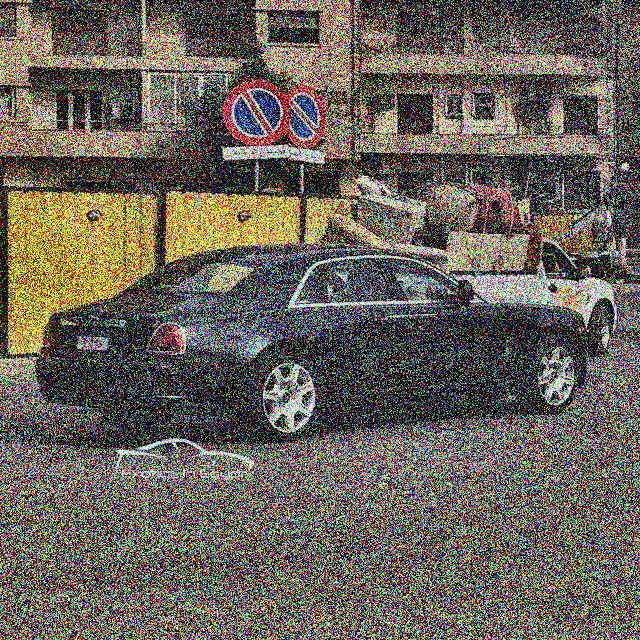License Plate: (74, 327, 111, 352)
